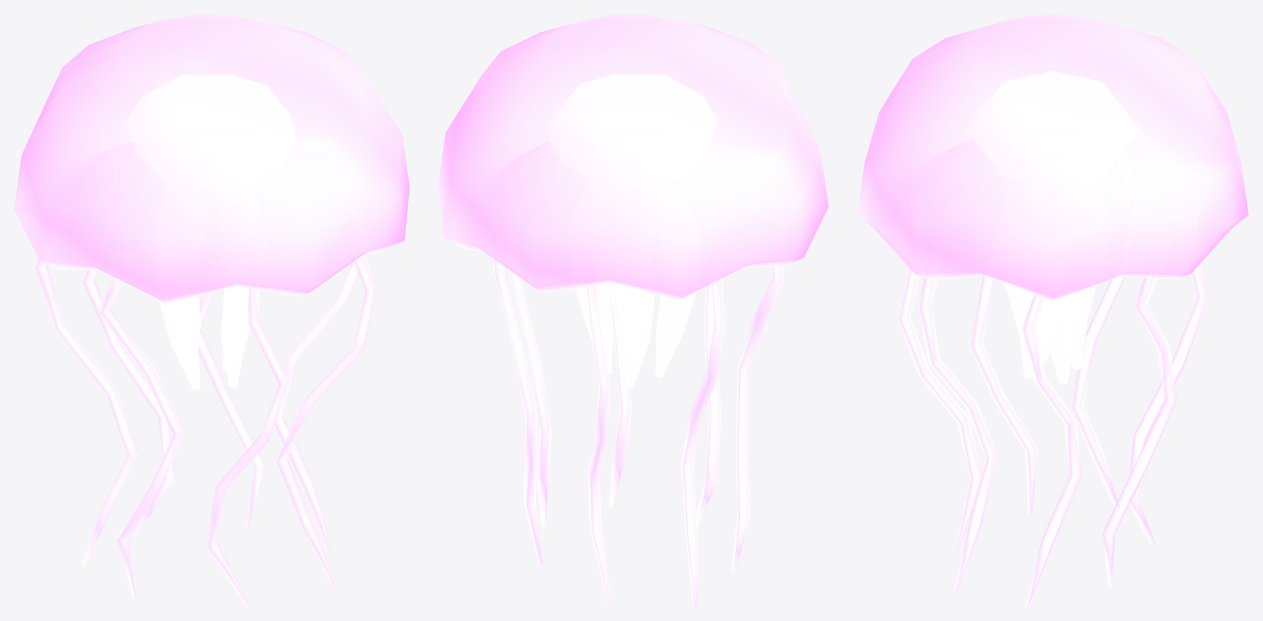
File: jelly.glb
The picture shows the model from 3 angles, left to right: view 1: azimuth 30°, elevation 25°; view 2: azimuth 150°, elevation 25°; view 3: azimuth 270°, elevation 25°; orthographic projection.
Parts seen in each view (by area): view 1: Jelly; view 2: Jelly; view 3: Jelly.
Boxes of the visible parts, box(x1,y1,x2,y2) form: Jelly: box(14, 14, 409, 606); Jelly: box(438, 14, 828, 606); Jelly: box(857, 14, 1248, 606).
Size of the model in its own units: 0.54 by 0.7811 by 0.54.
